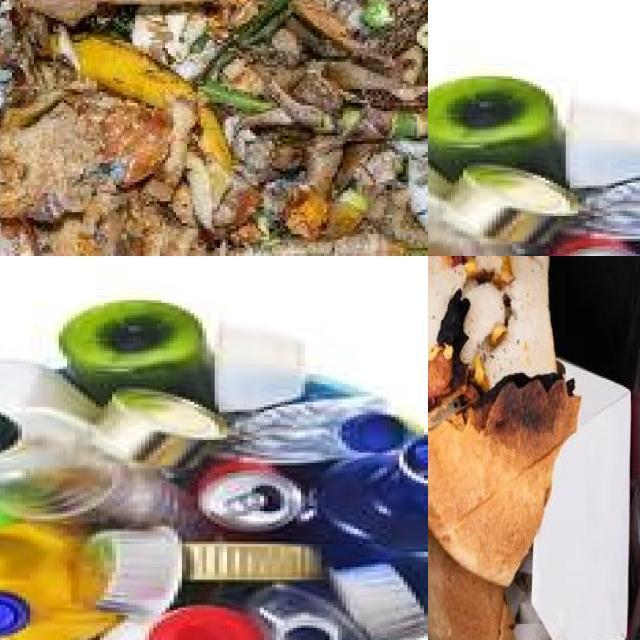Garbage: (428, 256, 633, 640)
contaminated_waste: (0, 300, 428, 640), (0, 318, 428, 640), (428, 76, 640, 256), (428, 94, 640, 256)
top_view_waste: (0, 293, 428, 640), (428, 69, 640, 256)
